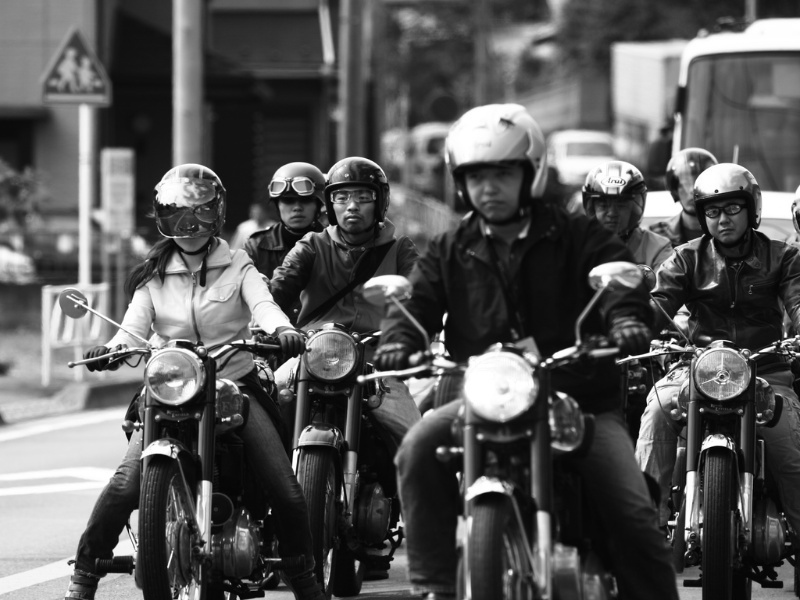Baret: (444, 102, 550, 172), (152, 164, 225, 214), (322, 155, 392, 194), (689, 164, 764, 198), (581, 162, 650, 193)
